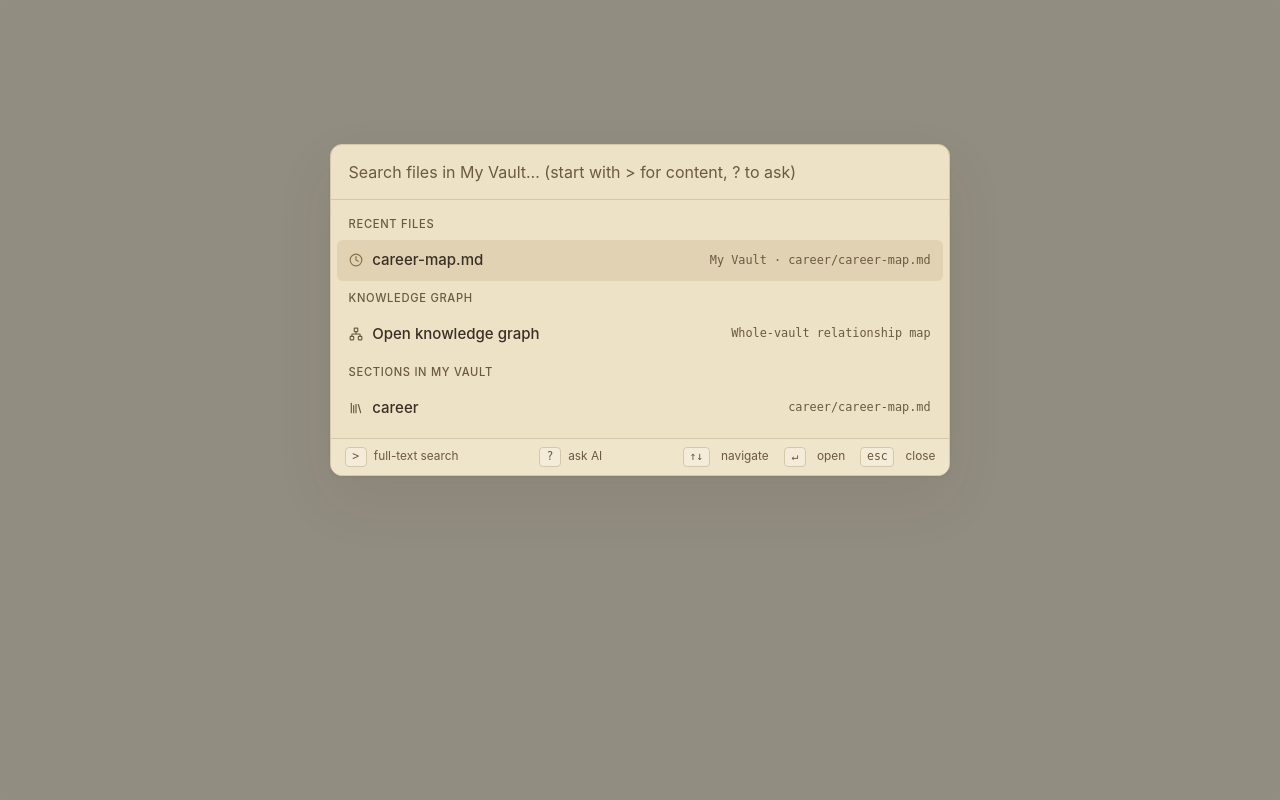
CommandPalette — `?` ask mode (Phase 3) › hides the recents / headings / sections groups while in ask mode
The width and height of the screenshot is (1280, 800).
In the dropdown with placeholder "Search files": (640, 173) [331,145,949,200], type "? hi"
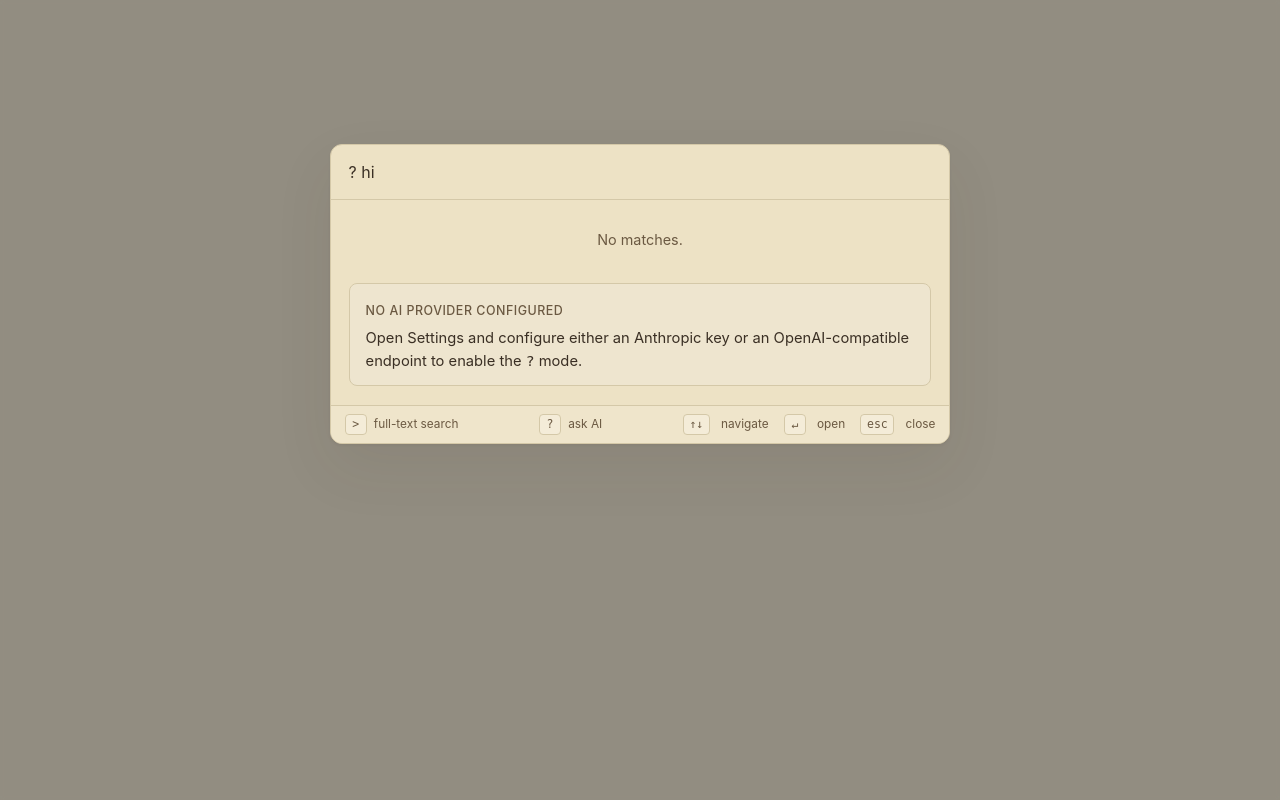
expect the text "No AI provider configured" is shown: met, box [366,302,563,321]
expect the text "Recent files" is gone: met
expect the text "Sections in" is gone: met
